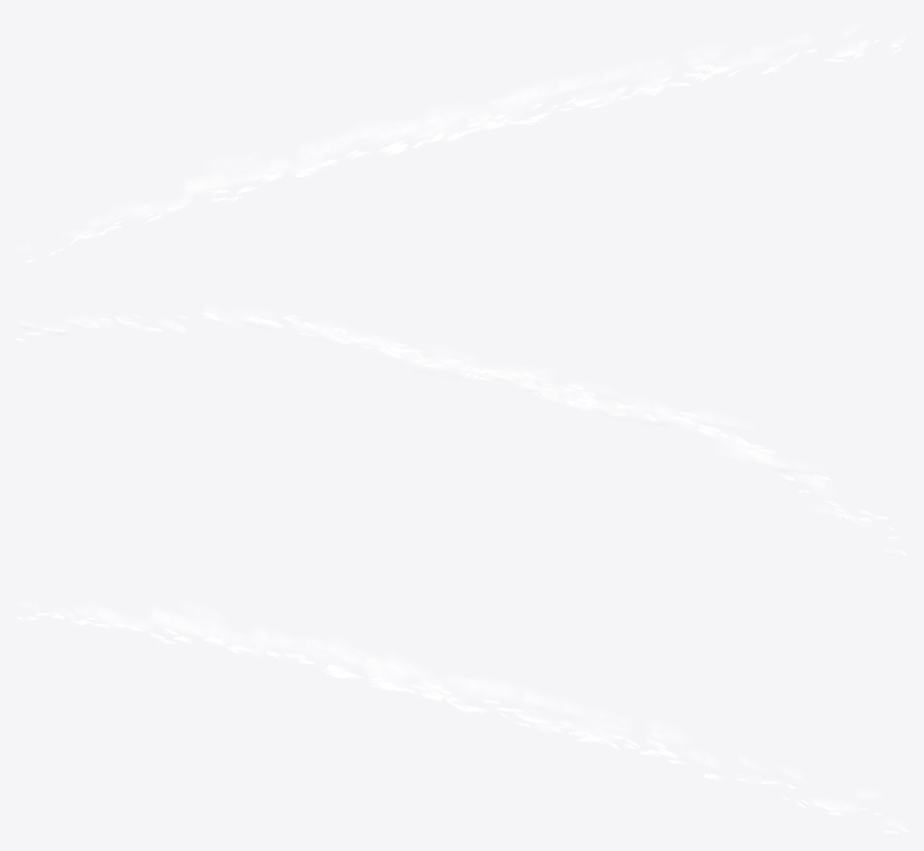
The model's file is wave_spray.glb.
3 renders of one model, top to bottom at view 1: azimuth 30°, elevation 25°; view 2: azimuth 150°, elevation 25°; view 3: azimuth 330°, elevation 25°, orthographic.
Size of the model in its own units: 621 by 56.11 by 56.96.
2 materials, 2 textured.
